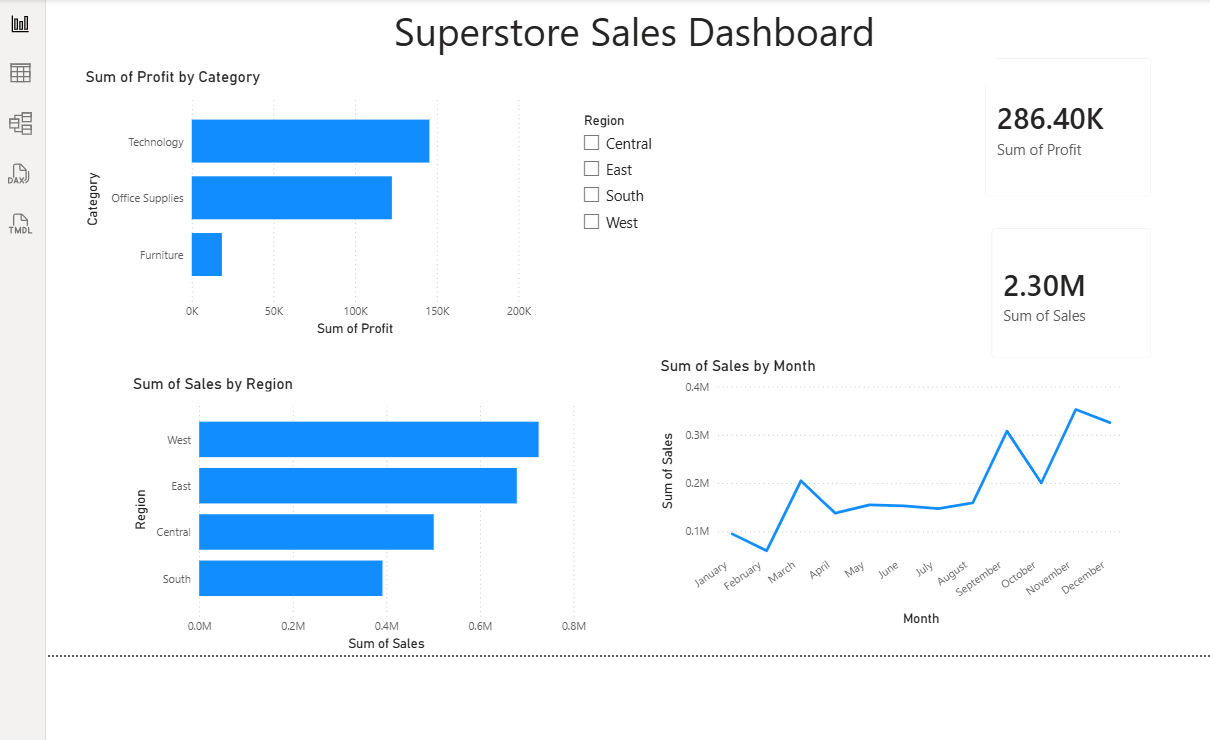

The page's visual inventory and layout, read from the dashboard file:
{"tool":"powerbi","page":{"name":"Page 1","canvas":[1280,720],"ordinal":0},"visuals":[{"type":"barChart","fields":{"Y":["Sum(Sample - Superstore.Sales)"],"Category":["Sample - Superstore.Region"]},"box":[0,430.9,382.8,289.5],"z":0},{"type":"barChart","fields":{"Y":["Sum(Sample - Superstore.Profit)"],"Category":["Sample - Superstore.Category"]},"box":[0,107,408.9,279.9],"z":1000},{"type":"lineChart","fields":{"Category":["Sample - Superstore.Order Date.Variation.Date Hierarchy.Month"],"Y":["Sum(Sample - Superstore.Sales)"]},"box":[484.4,474.8,336.2,234.6],"z":2000},{"type":"slicer","fields":{"Values":["Sample - Superstore.Region"]},"box":[725.9,200.3,238.8,230.5],"z":3000},{"type":"cardVisual","fields":{"Data":["Sum(Sample - Superstore.Sales)"]},"box":[1053.9,518.7,209.9,177],"z":4000},{"type":"cardVisual","fields":{"Data":["Sum(Sample - Superstore.Profit)"]},"box":[856.3,509.1,216.8,186.6],"z":5000},{"type":"textbox","box":[262.1,0,779.4,94.7],"z":6000}]}

Visuals, with their boxes on the page's 1280x720 design canvas (x1, y1, x2, y2). These are canvas units, not pixel positions in the 1210x740 screenshot, which may show the page scaled, cropped or inside an application window:
barChart - Sum(Sample - Superstore.Sales) x Sample - Superstore.Region: bbox(0, 431, 383, 720)
barChart - Sum(Sample - Superstore.Profit) x Sample - Superstore.Category: bbox(0, 107, 409, 387)
lineChart - Sample - Superstore.Order Date.Variation.Date Hierarchy.Month x Sum(Sample - Superstore.Sales): bbox(484, 475, 821, 709)
slicer - Sample - Superstore.Region: bbox(726, 200, 965, 431)
cardVisual - Sum(Sample - Superstore.Sales): bbox(1054, 519, 1264, 696)
cardVisual - Sum(Sample - Superstore.Profit): bbox(856, 509, 1073, 696)
textbox: bbox(262, 0, 1042, 95)
